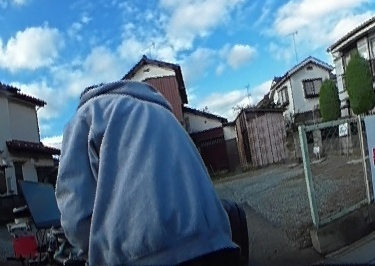person: (60, 72, 226, 266)
